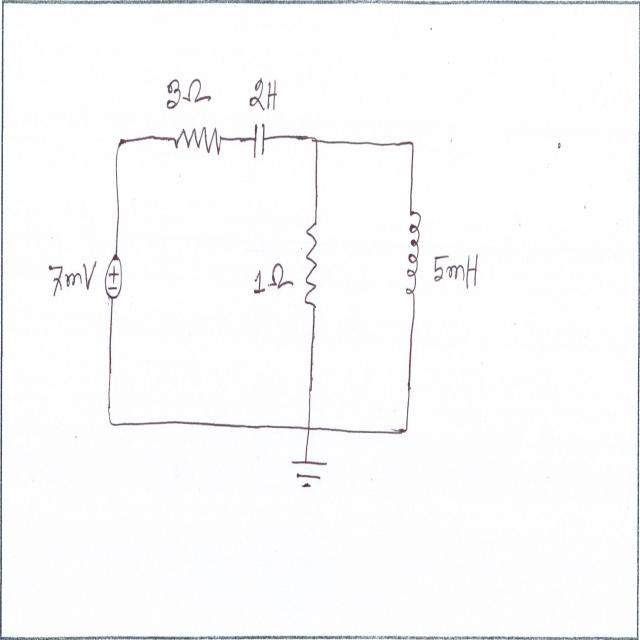capacitor: (251, 116, 267, 160)
ground: (288, 452, 330, 492)
inductor: (402, 202, 423, 315)
resistor: (174, 119, 224, 165), (302, 218, 321, 316)
voltage_source: (104, 253, 124, 302)
